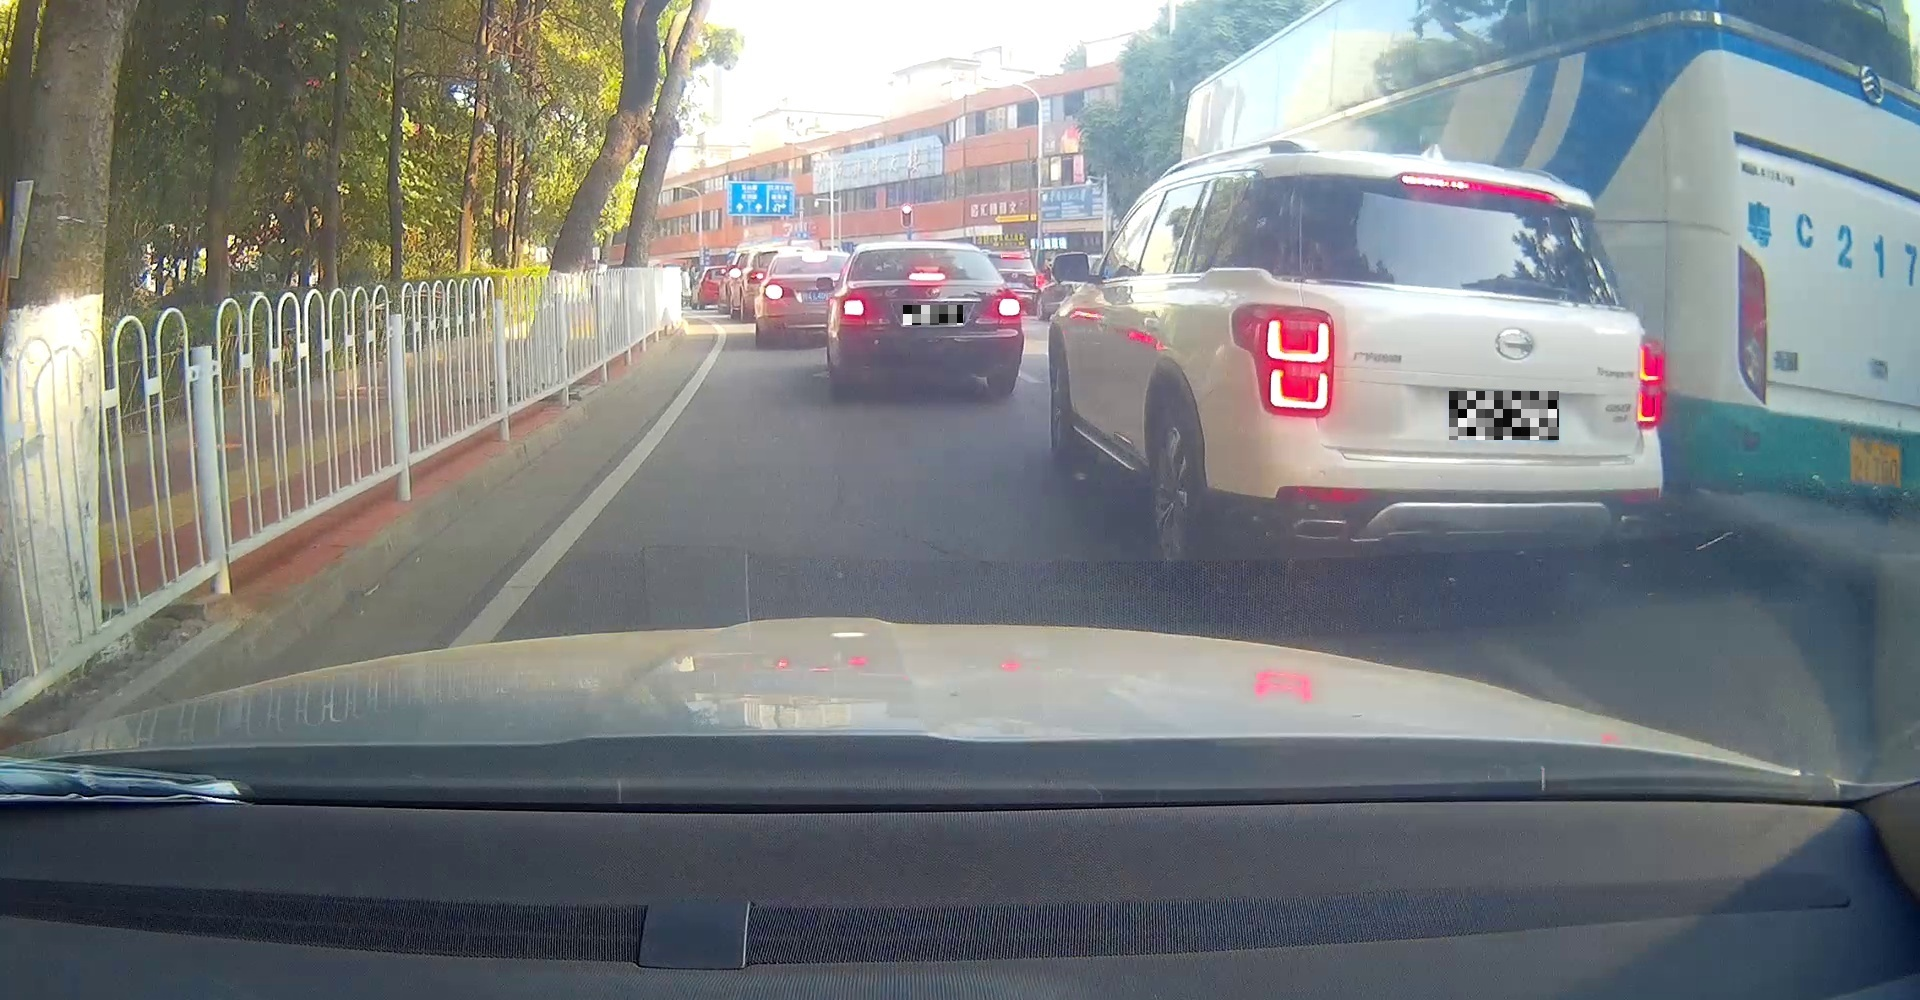L_light: (1229, 299, 1336, 420), (841, 294, 869, 319)
R_light: (1637, 339, 1661, 429), (993, 294, 1022, 319)
T_light: (1402, 173, 1559, 204), (907, 272, 947, 280)
day-brake: (1227, 150, 1663, 575), (836, 241, 1025, 393)
plate_1: (903, 305, 963, 325)
plate_2: (1449, 391, 1559, 440)
